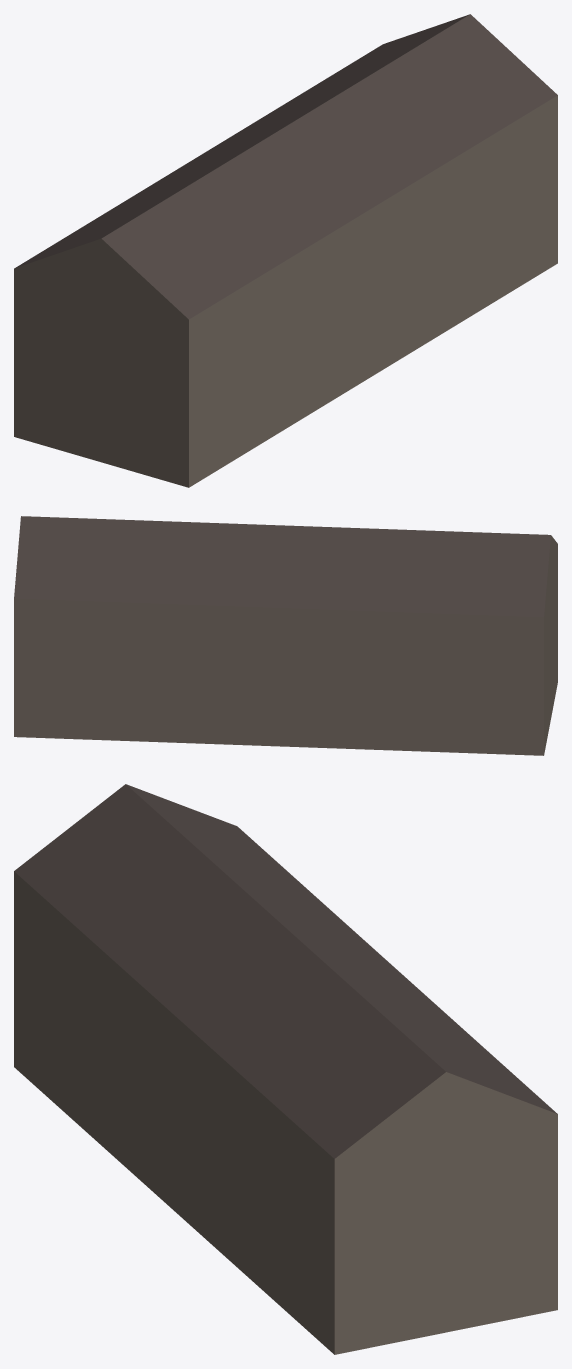
The picture shows the model from 3 angles, top to bottom: view 1: azimuth 30°, elevation 25°; view 2: azimuth 150°, elevation 25°; view 3: azimuth 270°, elevation 25°; orthographic projection. The views are drawn at different scales.
Visible parts, largest first — view 1: HP-w859088497; view 2: HP-w859088497; view 3: HP-w859088497.
Boxes of the visible parts, box(x1,y1,x2,y2) form: HP-w859088497: box(14, 14, 557, 487); HP-w859088497: box(14, 516, 557, 755); HP-w859088497: box(14, 784, 557, 1354).
Size of the model in its own units: 32.79 by 11.97 by 22.65.
